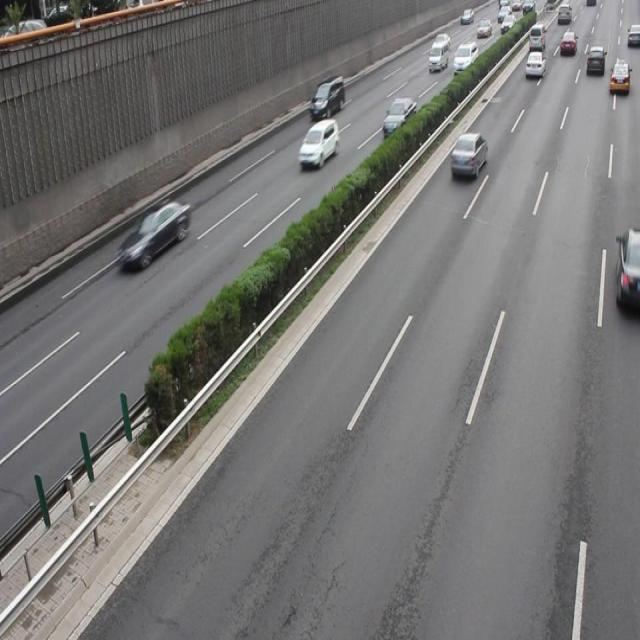car: (116, 197, 190, 270), (614, 227, 640, 311), (297, 116, 338, 168), (448, 130, 486, 180), (380, 97, 416, 139)
truck: (308, 76, 345, 121)
